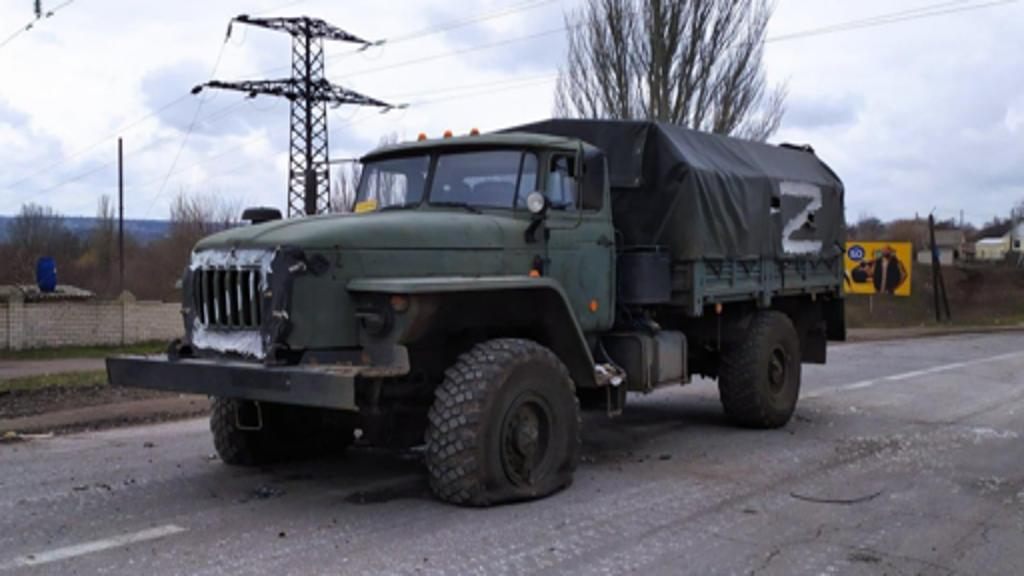TRUCK: (102, 114, 846, 508)
